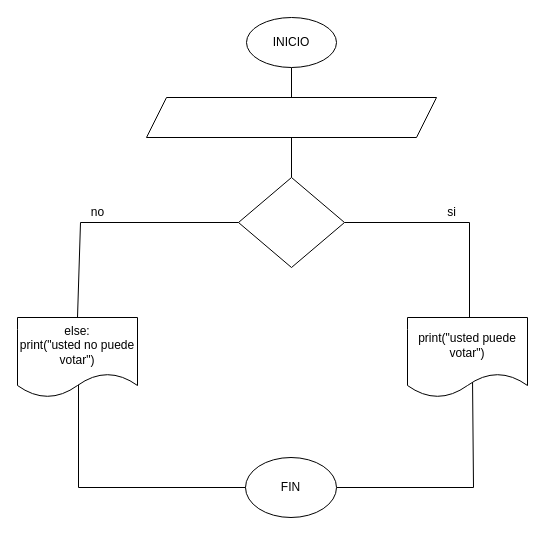
This 545x535 diagram has some shape labels left out. The centre of each missing label's shape, as x and y in pixels:
edad=int(input("Ingrese su edad:")): pixel 291 117
if edad >= 18: pixel 291 222
